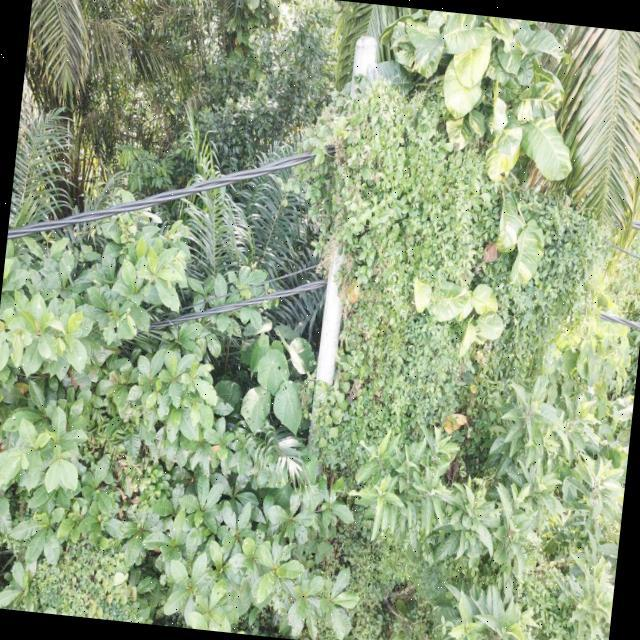critical vegetation: (270, 56, 633, 387)
